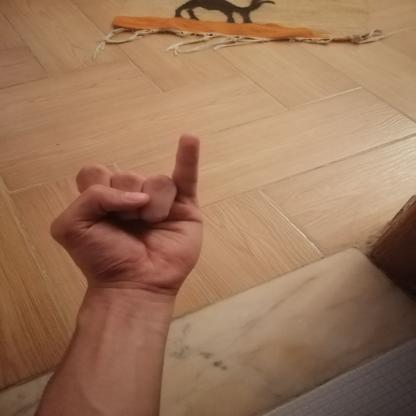MEEM: (35, 118, 233, 302)
